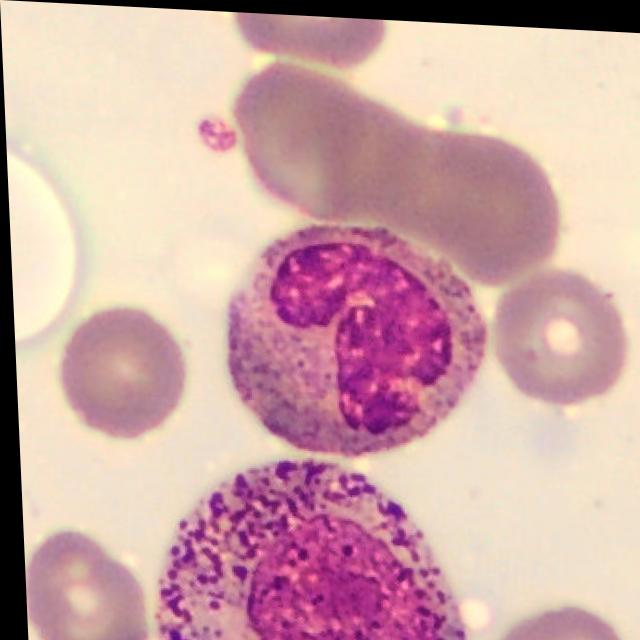Neutrofilo segmentado: (222, 218, 484, 452)
